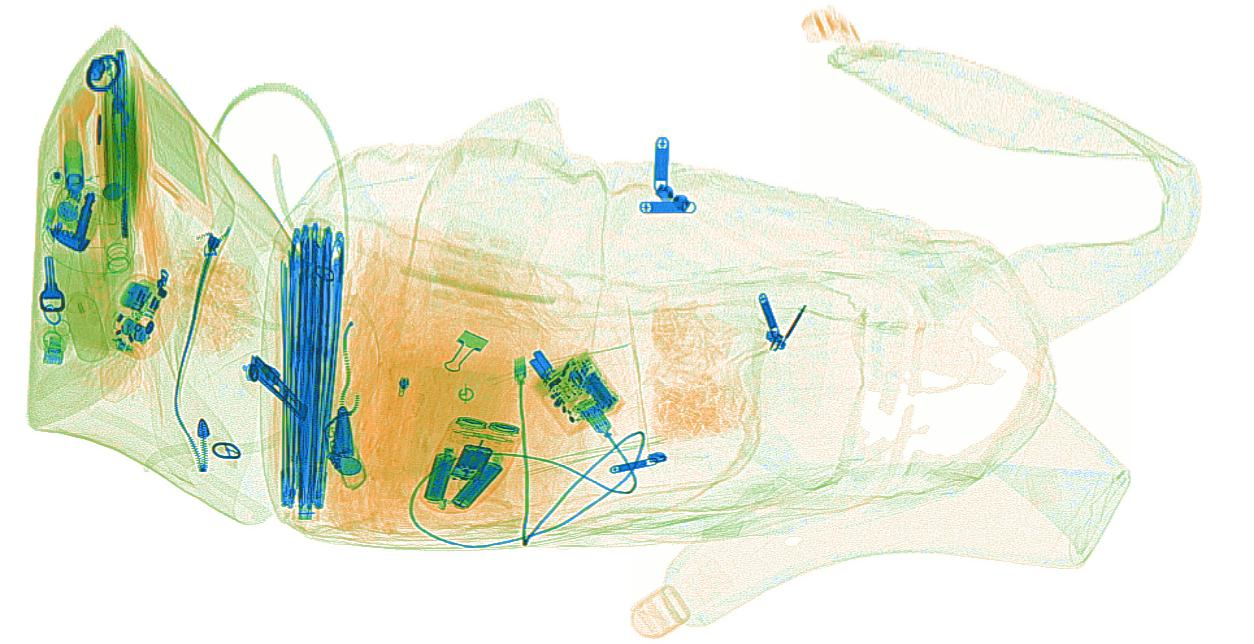battery: (451, 462, 501, 509), (424, 449, 457, 503)
pressure: (62, 271, 111, 363)
